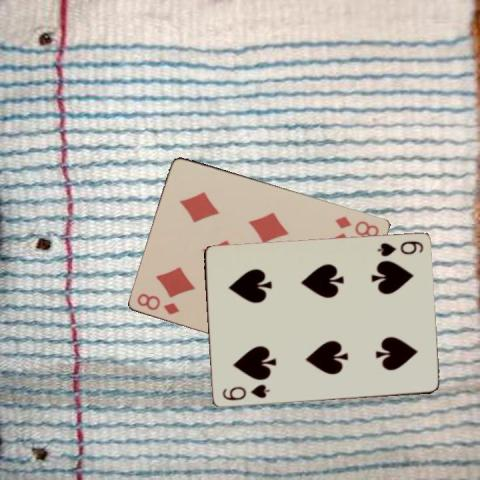6s: (219, 381, 271, 402), (374, 238, 424, 259)
8d: (332, 213, 381, 239), (134, 290, 181, 317)
